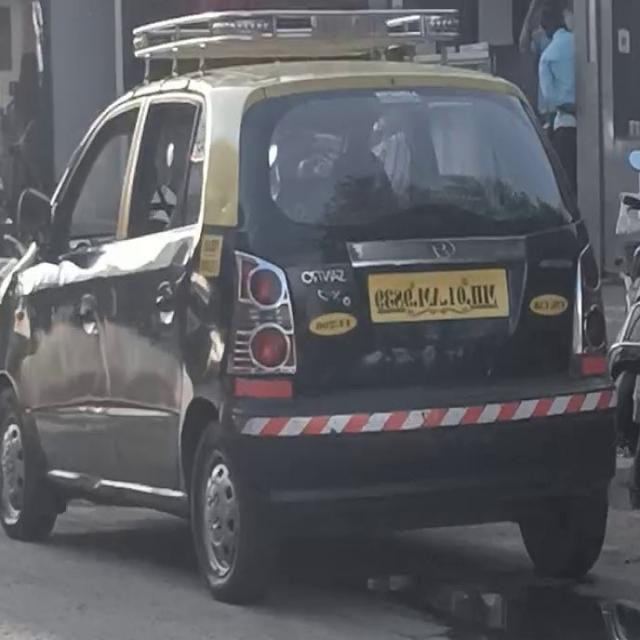license_plate: (364, 260, 516, 333)
